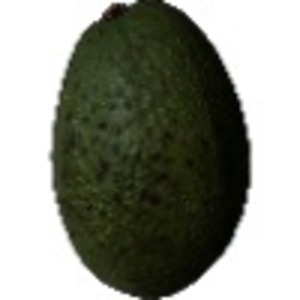abacate: (47, 1, 251, 300)
